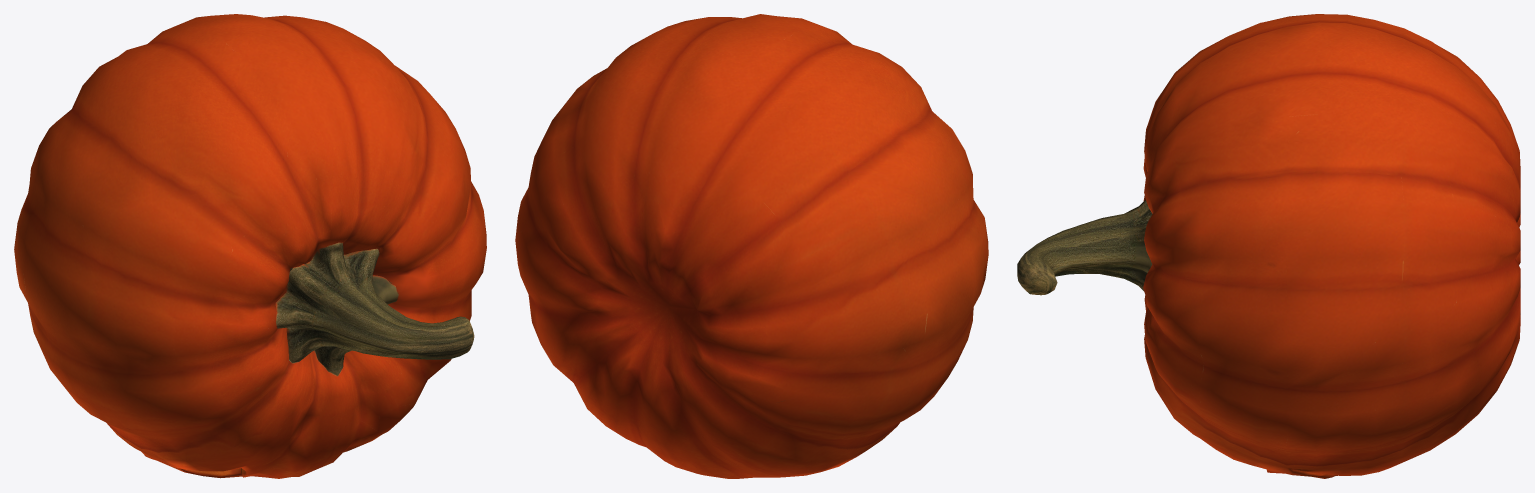
Rendered from float-ringPumpkinBigFile.glb.
The picture shows the model from 3 angles, left to right: view 1: azimuth 30°, elevation 25°; view 2: azimuth 150°, elevation 25°; view 3: azimuth 270°, elevation 25°; orthographic projection.
Parts seen in each view (by area): view 1: Mesh_0; view 2: Mesh_0; view 3: Mesh_0.
Part boxes in pixels (<box>): Mesh_0: <box>14,14,486,478</box>; Mesh_0: <box>515,14,988,478</box>; Mesh_0: <box>1017,14,1520,478</box>.
Size of the model in its own units: 0.8005 by 0.7972 by 0.8539.
Materials: 1 (1 with a texture image).
